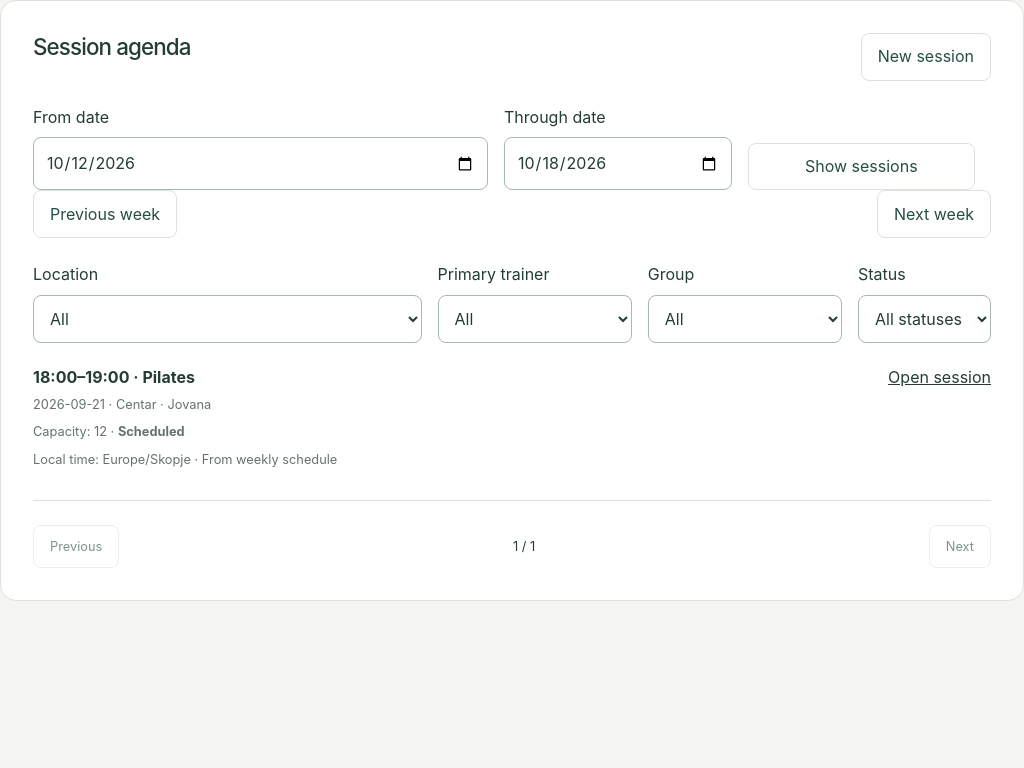
Test: materializes selected group and reports skipped work
The width and height of the screenshot is (1024, 768).
Select "Pilates" in the dropdown labelled "Group" at (745, 318), box [648,294,842,342]
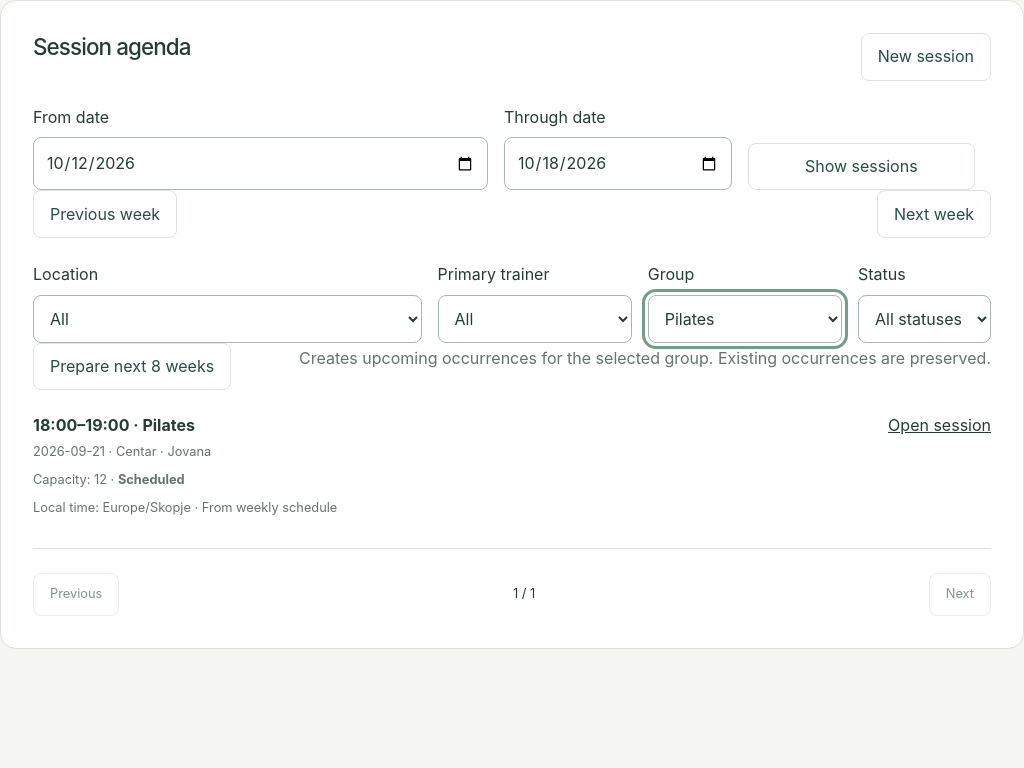
Click the button "Prepare next 8 weeks" at (132, 366), box [33,342,231,390]
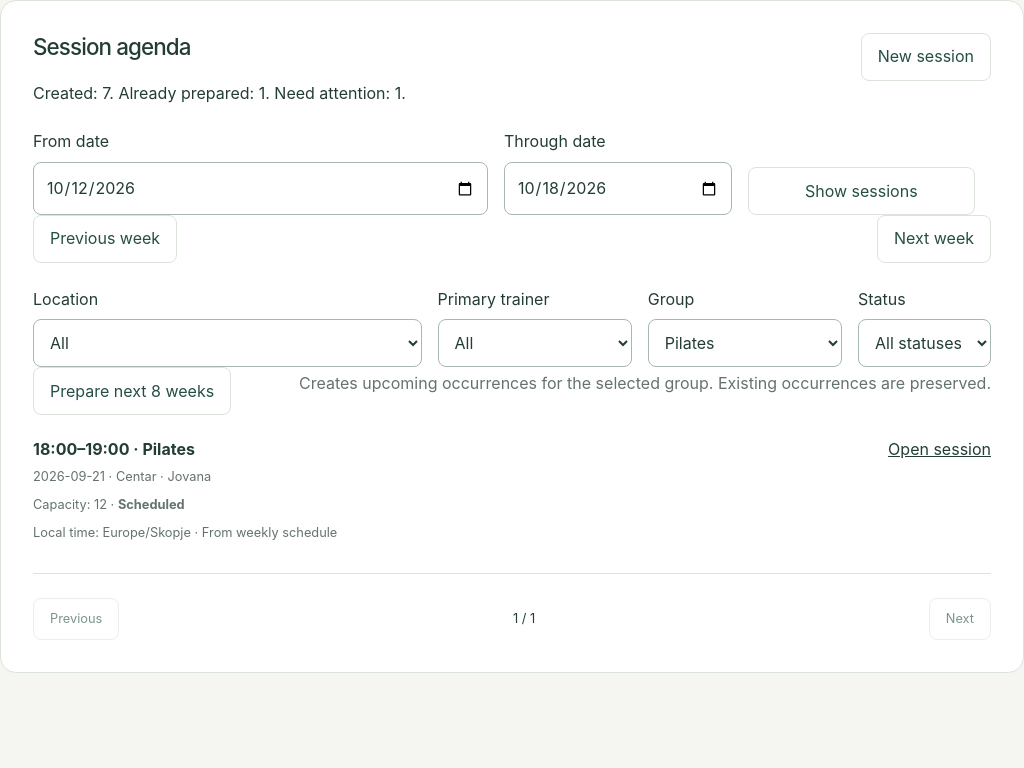
Expected: the text "Created: 7. Already prepared: 1. Need attention: 1." is shown, [33,83,406,103]
